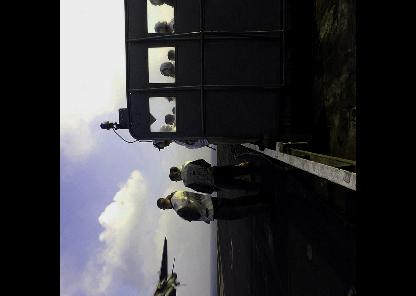EF2000: (136, 232, 186, 293)
